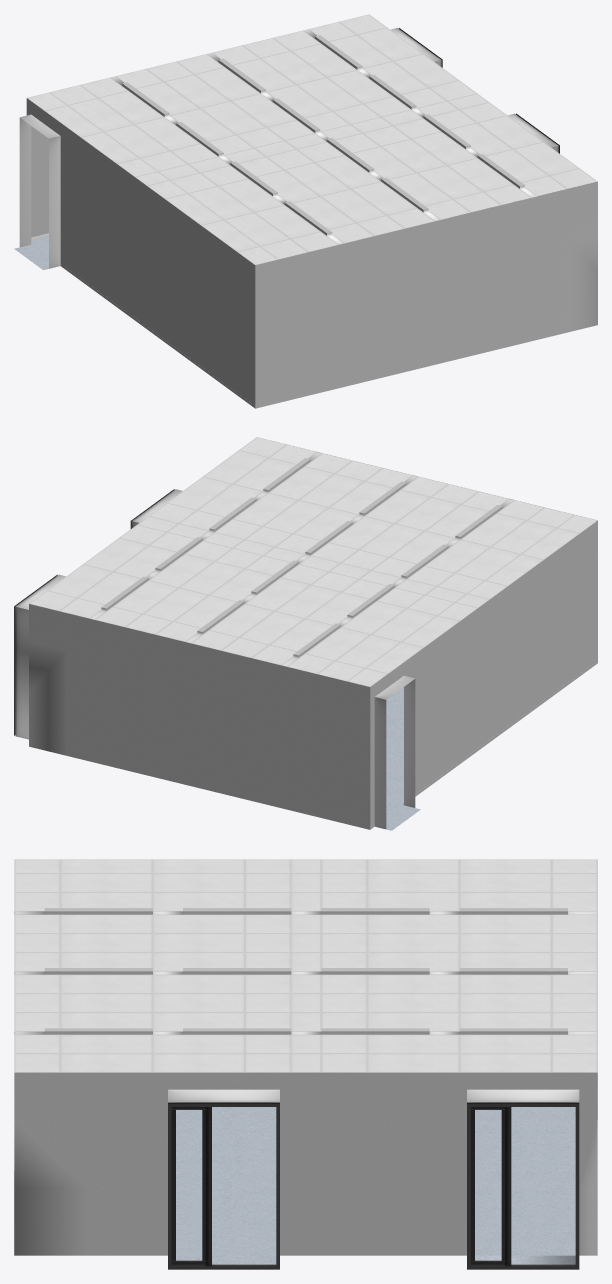
Rendered from realPD1.fbx.
3 renders of one model, top to bottom at view 1: azimuth 30°, elevation 25°; view 2: azimuth 150°, elevation 25°; view 3: azimuth 270°, elevation 25°, orthographic. The views are drawn at different scales.
Visible parts, largest first — view 1: pCube32; view 2: pCube32; view 3: pCube32.
Boxes of the visible parts, left/top/right/bottom form: pCube32: left=14, top=14, right=597, bottom=408; pCube32: left=14, top=437, right=597, bottom=830; pCube32: left=14, top=859, right=597, bottom=1269.
Bounding box in the file's own units: 12.39 × 4.52 × 12.84.
Materials: 9 (9 with a texture image).
